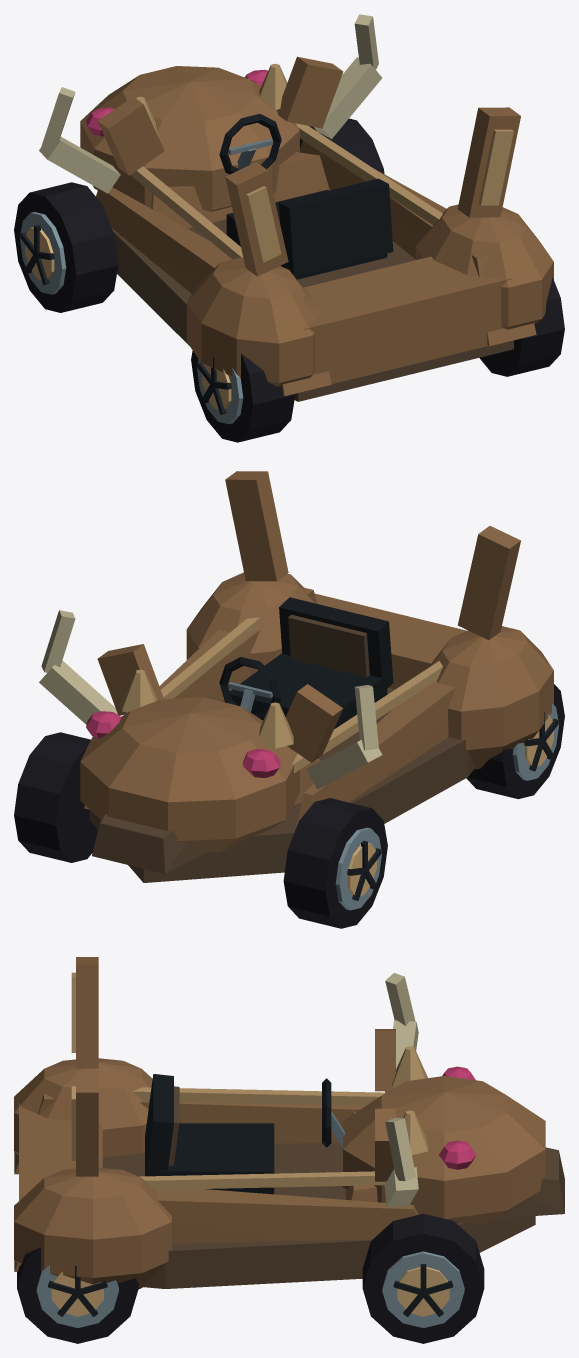
File: kart.glb
The picture shows the model from 3 angles, top to bottom: view 1: azimuth 30°, elevation 25°; view 2: azimuth 150°, elevation 25°; view 3: azimuth 270°, elevation 25°; orthographic projection. The views are drawn at different scales.
Parts seen in each view (by area): view 1: identity-beast-beast-sculpted-prow-and-haunches, identity-beast-driver-cockpit, wheel-front-left, identity-beast-motif-ears, identity-beast-motif-horns, wheel-rear-left, wheel-rear-right, wheel-front-right; view 2: identity-beast-beast-sculpted-prow-and-haunches, identity-beast-driver-cockpit, wheel-front-left, identity-beast-motif-ears, wheel-front-right, identity-beast-motif-horns, wheel-rear-left; view 3: identity-beast-beast-sculpted-prow-and-haunches, wheel-front-right, identity-beast-driver-cockpit, wheel-rear-right, identity-beast-motif-ears, identity-beast-motif-horns.
Boxes of the visible parts, x1,y1,x2,y2 form: identity-beast-beast-sculpted-prow-and-haunches: (80,56,553,401); identity-beast-driver-cockpit: (219,114,393,279); wheel-front-left: (14,182,118,312); identity-beast-motif-ears: (225,107,520,276); identity-beast-motif-horns: (39,14,381,193); wheel-rear-left: (191,351,295,442); wheel-rear-right: (479,278,564,376); wheel-front-right: (300,118,384,174); identity-beast-beast-sculpted-prow-and-haunches: (80,572,553,882); identity-beast-driver-cockpit: (219,597,393,729); wheel-front-left: (283,798,387,928); identity-beast-motif-ears: (225,471,520,640); wheel-front-right: (14,732,97,862); identity-beast-motif-horns: (39,610,382,789); wheel-rear-left: (466,684,564,799); identity-beast-beast-sculpted-prow-and-haunches: (14,1029,564,1289); wheel-front-right: (362,1213,484,1343); identity-beast-driver-cockpit: (145,1074,344,1194); wheel-rear-right: (17,1247,138,1343); identity-beast-motif-ears: (71,957,98,1176); identity-beast-motif-horns: (384,973,418,1207).
Size of the model in its own units: 2.01 by 1.46 by 2.9.
